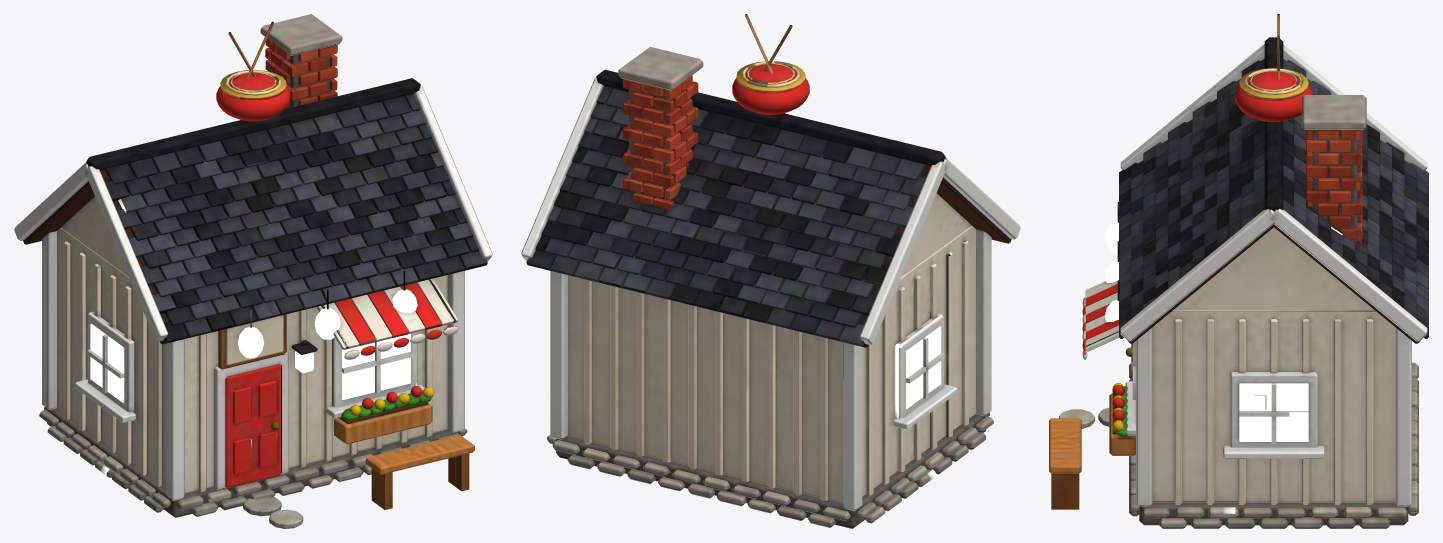
The model's file is noodle_bar.glb.
3 views of the same model, side by side, from view 1: azimuth 30°, elevation 25°; view 2: azimuth 150°, elevation 25°; view 3: azimuth 270°, elevation 25° (orthographic). The views are drawn at different scales.
Parts seen in each view (by area): view 1: noodle_bar; view 2: noodle_bar; view 3: noodle_bar.
Boxes of the visible parts, left/top/right/bottom form: noodle_bar: left=14, top=14, right=492, bottom=528; noodle_bar: left=521, top=14, right=1020, bottom=528; noodle_bar: left=1049, top=14, right=1428, bottom=528.
Bounding box in the file's own units: 1.74 × 2.04 × 1.64.
1 material, 1 textured.
